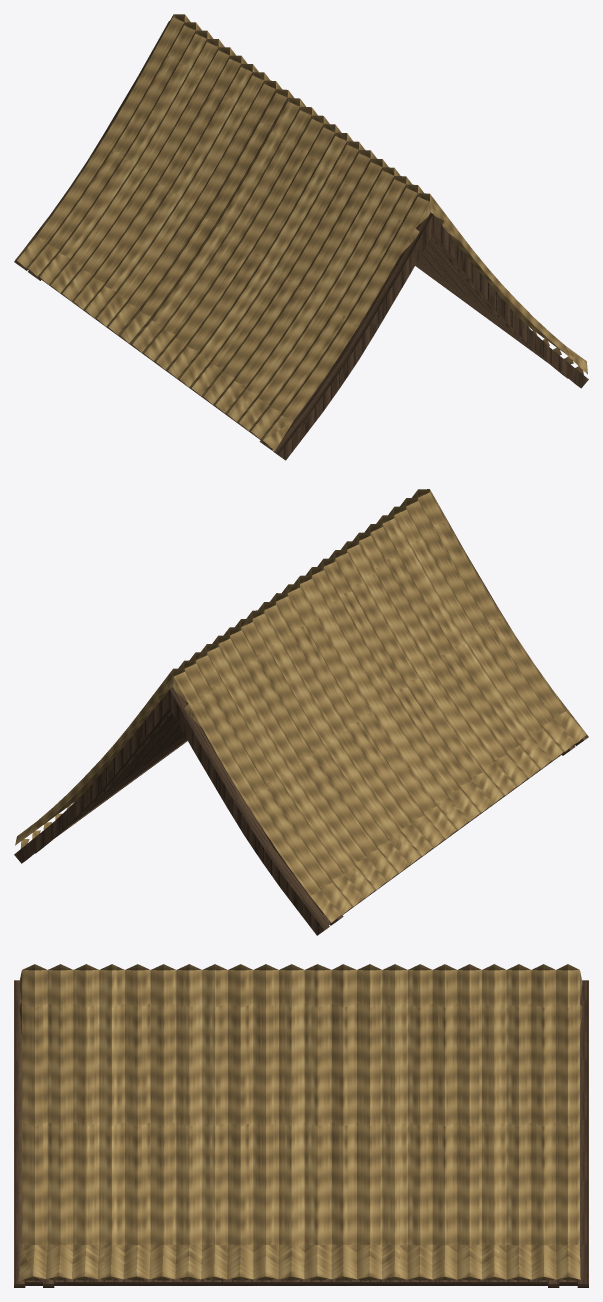
File: Roof_Thatch_6x10.gltf
3 renders of one model, top to bottom at view 1: azimuth 30°, elevation 25°; view 2: azimuth 150°, elevation 25°; view 3: azimuth 270°, elevation 25°, orthographic. The views are drawn at different scales.
Visible parts, largest first — view 1: Roof_Thatch_6x10; view 2: Roof_Thatch_6x10; view 3: Roof_Thatch_6x10.
Part boxes in pixels (left/top/right/bottom): Roof_Thatch_6x10: left=14, top=14, right=588, bottom=460; Roof_Thatch_6x10: left=14, top=489, right=588, bottom=935; Roof_Thatch_6x10: left=14, top=964, right=588, bottom=1287.
Bounding box in the file's own units: 8.25 × 5.42 × 11.66.
Materials: 2 (2 with a texture image).
